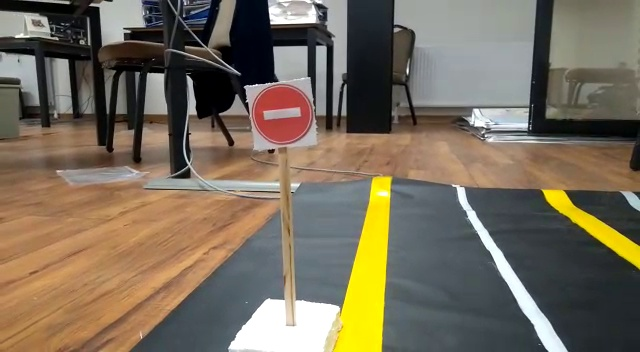girisi_olmayan_yol: (252, 76, 319, 151)
